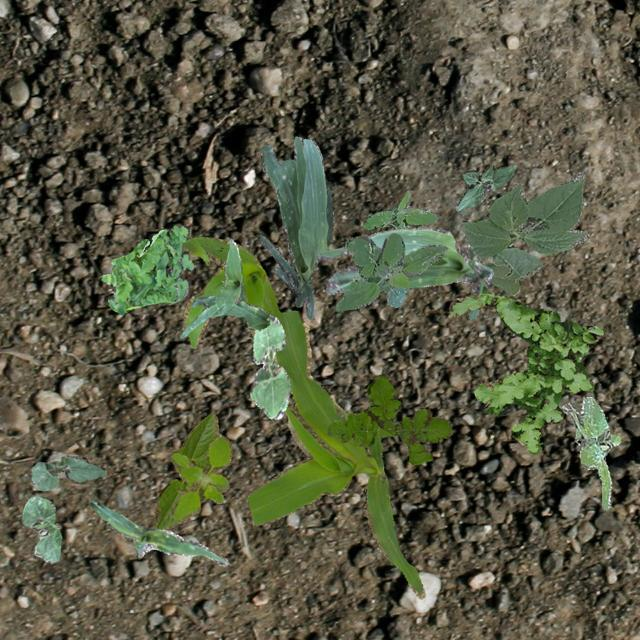crop: (246, 310, 424, 598), (180, 236, 347, 420), (314, 225, 492, 318), (462, 170, 588, 294), (258, 136, 332, 318), (88, 498, 228, 566), (178, 238, 268, 338), (152, 412, 218, 528), (248, 314, 288, 418), (454, 163, 516, 210), (20, 494, 60, 562), (30, 454, 104, 490)
weed: (448, 292, 602, 452), (326, 374, 452, 464), (334, 232, 446, 310), (100, 224, 192, 314), (560, 396, 620, 510), (170, 436, 232, 520), (362, 192, 436, 228)
